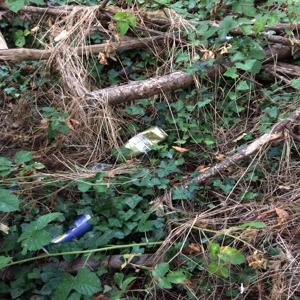metal: (113, 126, 177, 160), (41, 209, 104, 243)
